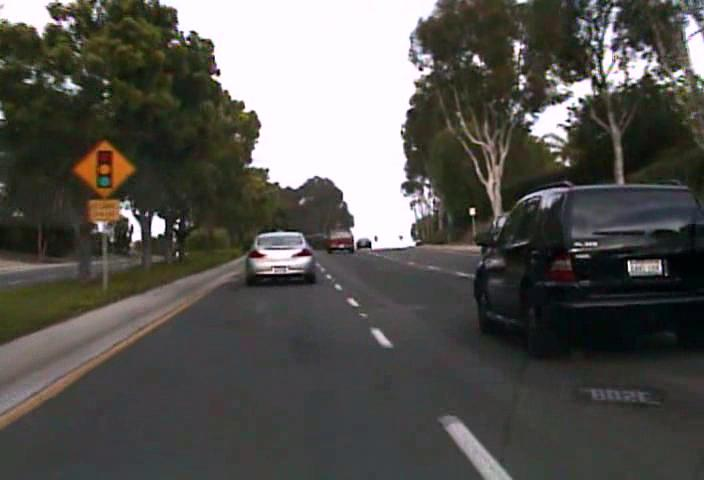signalAhead: (71, 137, 136, 199)
